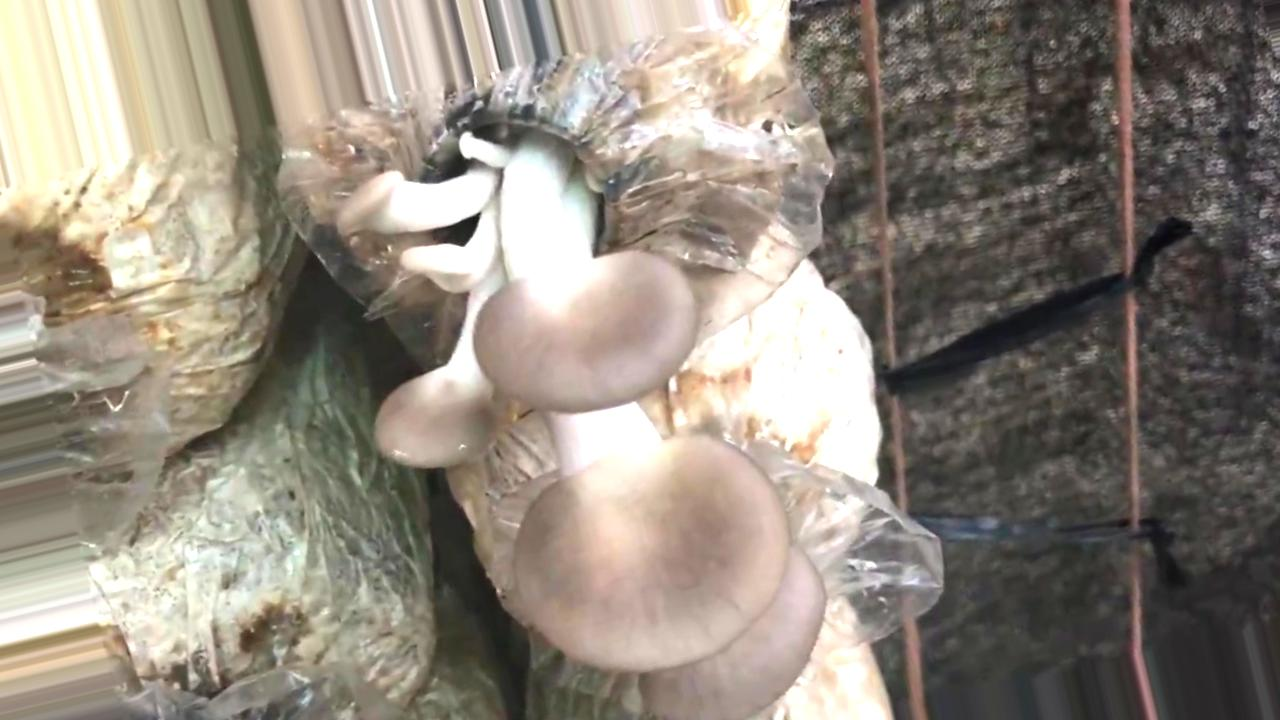nam: (334, 81, 825, 674), (641, 543, 824, 720)
